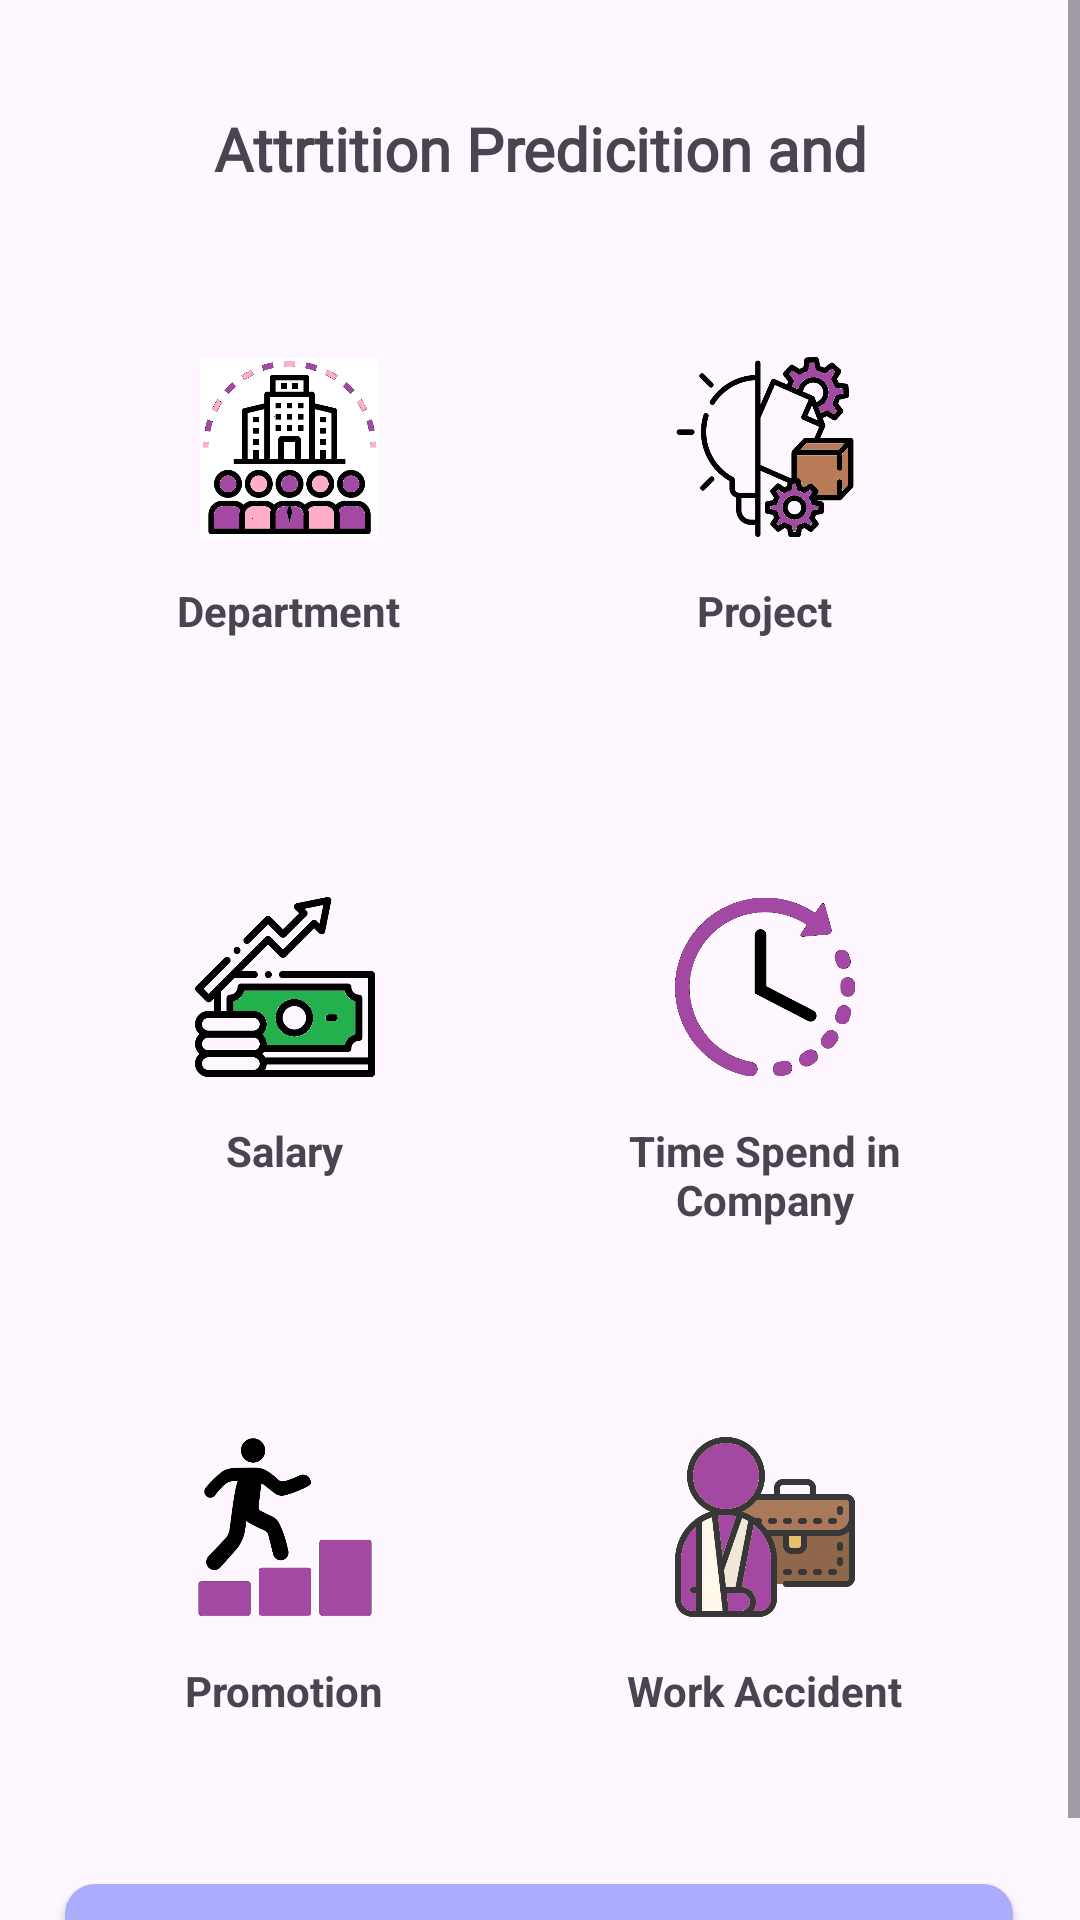

Screen size 1080 x 1920. Icon name, then its box in pixels as bbox=[x1, y1, x2, y2]:
career: bbox=[198, 1438, 372, 1616]
corporate: bbox=[203, 361, 376, 534]
idea: bbox=[676, 357, 854, 537]
